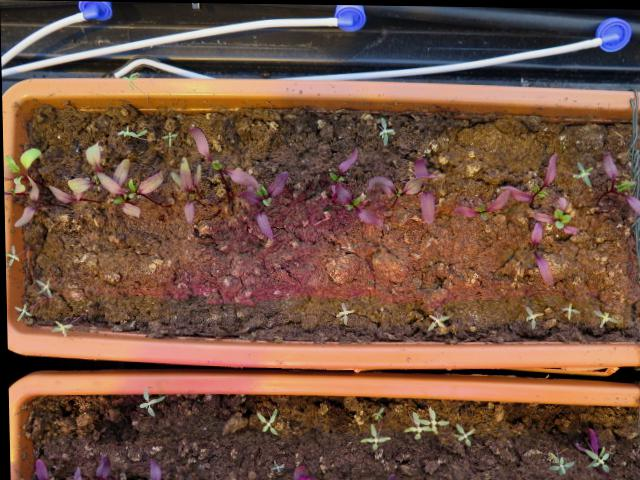weed: (132, 381, 166, 421), (352, 417, 391, 451), (417, 307, 454, 333), (249, 405, 280, 436), (516, 299, 545, 332), (372, 111, 397, 149), (587, 302, 621, 329), (329, 297, 356, 328), (567, 158, 594, 187), (448, 419, 476, 446), (555, 294, 581, 320), (45, 316, 73, 339), (30, 274, 53, 300), (8, 299, 31, 322)
